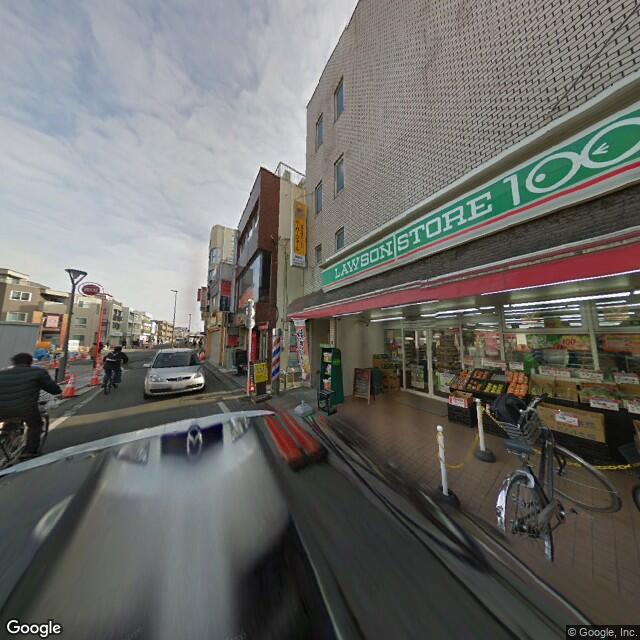lawson: (323, 100, 637, 292)
